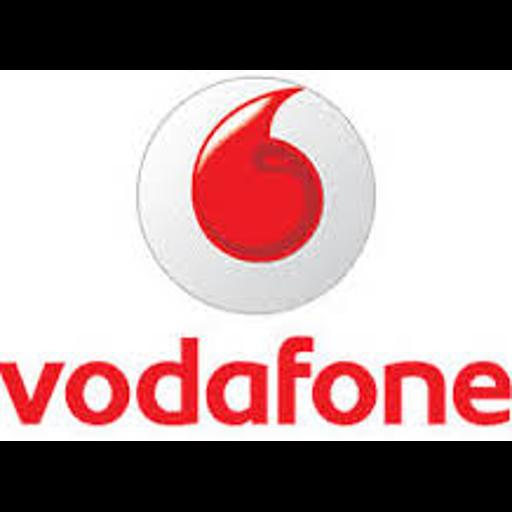Vodafone: (0, 70, 512, 441)
